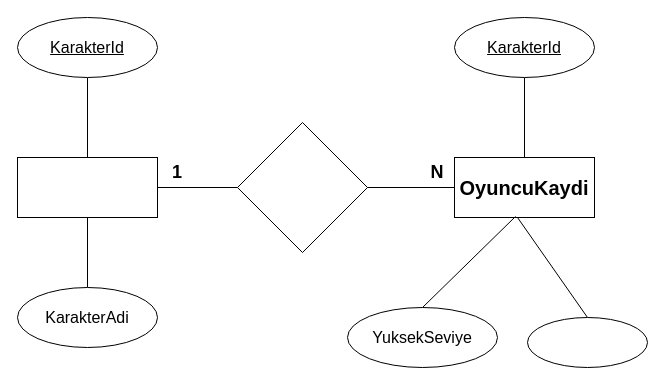
The diagram is 665 pixels wide and 385 high, and some of its shapes have lost their labels. The box of each missing label's shape, as (x1, y1, x2, y2) in pixels:
Karakter: (16, 156, 158, 218)
Sahiptir: (236, 122, 368, 252)
Tarih: (526, 316, 648, 368)
